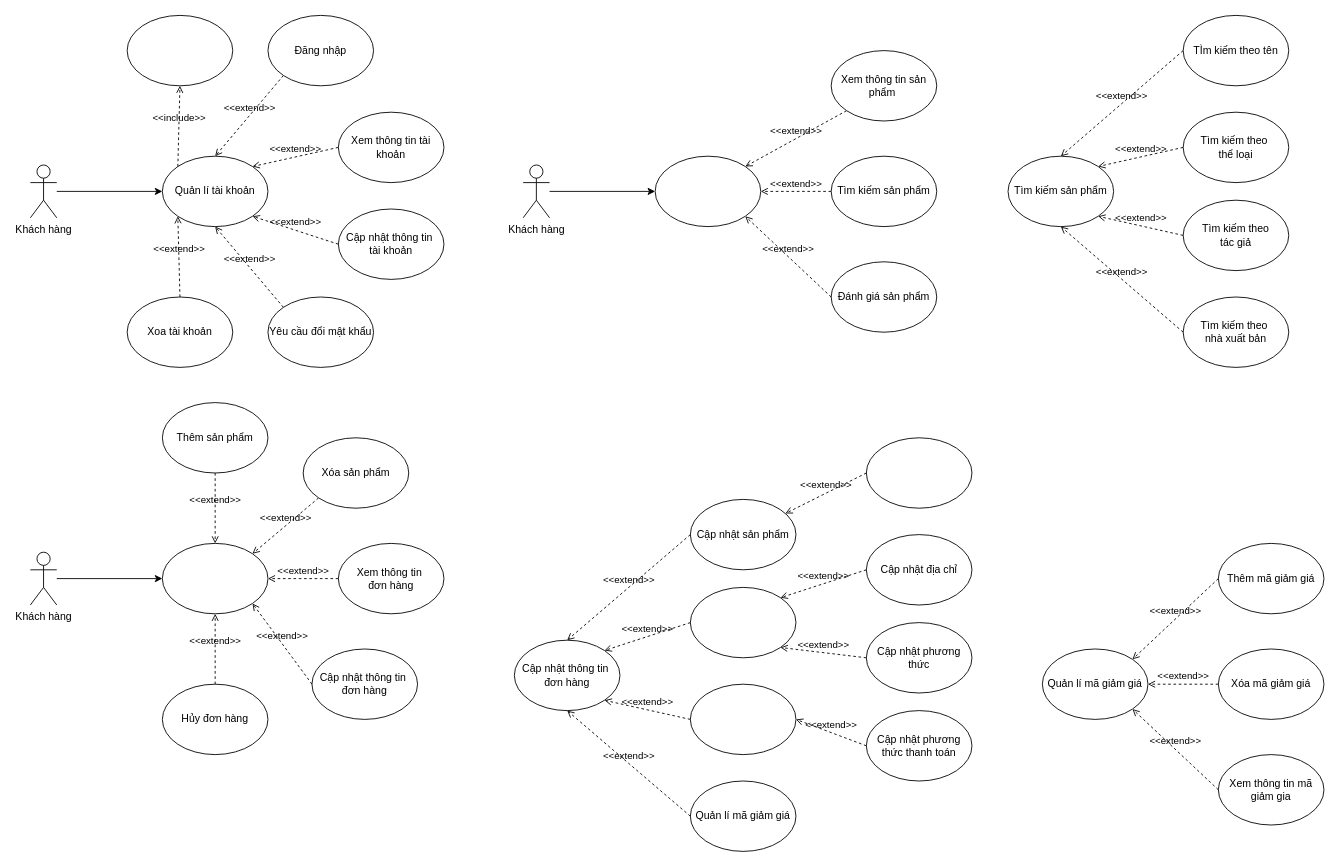
This 1339x867 diagram has some shape labels left out. Here are the shapes that lost their labels. From the top down, the centre of each, then its label:
At pixel 179 50: "Đăng kí".
At pixel 707 191: "Quản lí sản phẩm".
At pixel 918 472: "Số lượng sản phẩm".
At pixel 214 578: "Quản lí đơn hàng".
At pixel 742 622: "Cập nhật giao hàng".
At pixel 742 719: "Cập nhật thanh toán".
